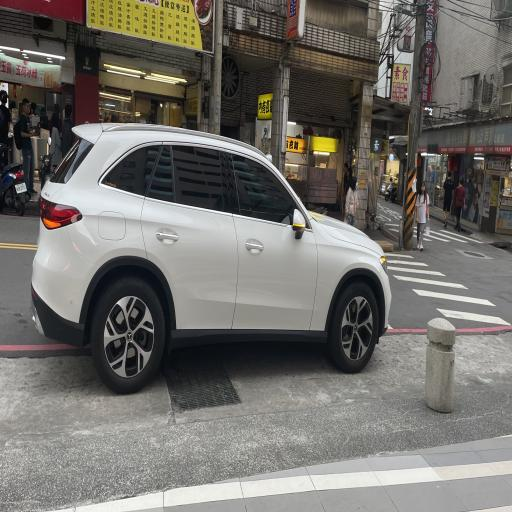MIU: (24, 278, 168, 391), (326, 300, 410, 380)
car: (24, 100, 391, 402)
redline: (381, 316, 512, 348), (0, 333, 96, 362)
